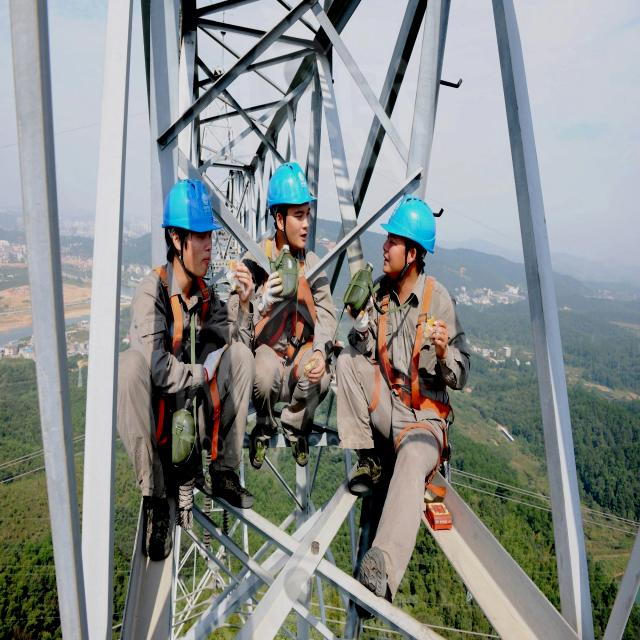face_nomask: (379, 228, 414, 278), (184, 226, 217, 274), (280, 203, 311, 250)
hand_glove: (198, 340, 232, 383), (260, 268, 284, 316)
hand_noglove: (230, 258, 253, 306), (432, 316, 451, 359), (308, 343, 326, 387)
head_helmet: (157, 177, 220, 234), (382, 197, 438, 250), (265, 164, 318, 213)
person: (114, 178, 248, 558), (337, 188, 464, 586), (244, 163, 333, 466)
shoes: (344, 441, 390, 509), (140, 486, 176, 559), (207, 463, 257, 510), (285, 413, 318, 469), (247, 422, 277, 472)
